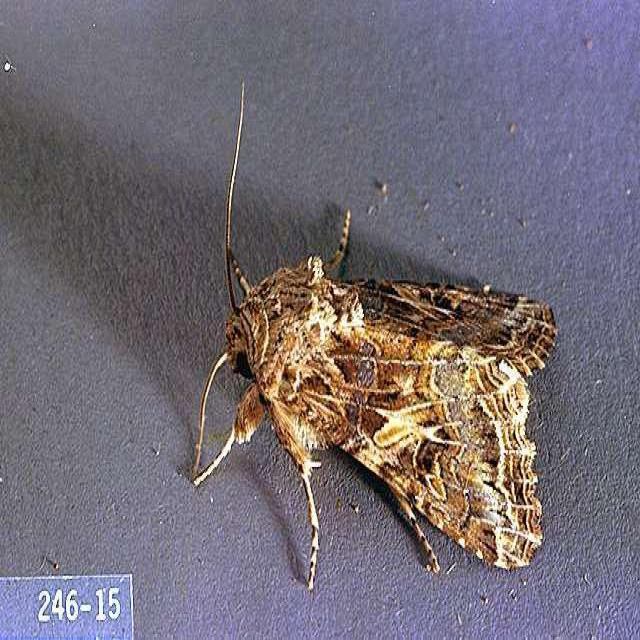BeetArmyWorm-Adult-: (172, 66, 564, 593)
